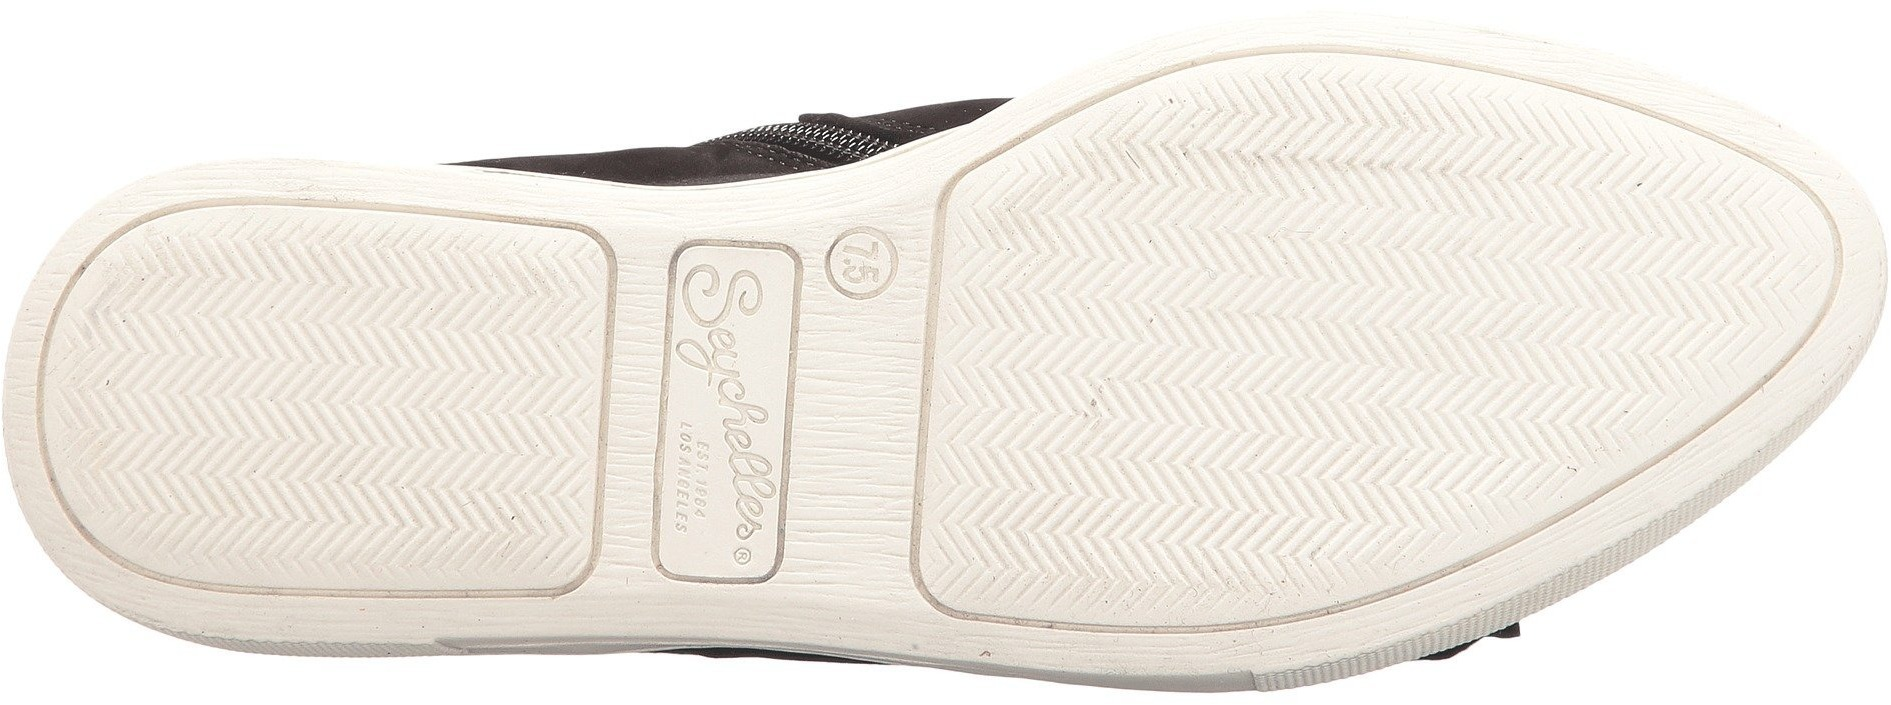chevron: (914, 55, 1836, 613), (45, 205, 611, 587), (1181, 211, 1479, 456), (333, 237, 599, 472), (1249, 317, 1511, 537), (1382, 302, 1633, 531), (1395, 95, 1672, 298), (1517, 152, 1776, 365), (937, 372, 1171, 609), (1171, 80, 1415, 300), (952, 193, 1194, 400), (1190, 390, 1400, 584)
circle: (656, 225, 807, 600), (816, 208, 904, 304), (819, 219, 904, 307)
line: (794, 339, 918, 581), (810, 307, 920, 415)
quad: (656, 225, 807, 600), (646, 237, 804, 584)
text: (656, 225, 807, 600), (660, 249, 786, 564), (816, 208, 904, 304), (838, 233, 890, 290)
